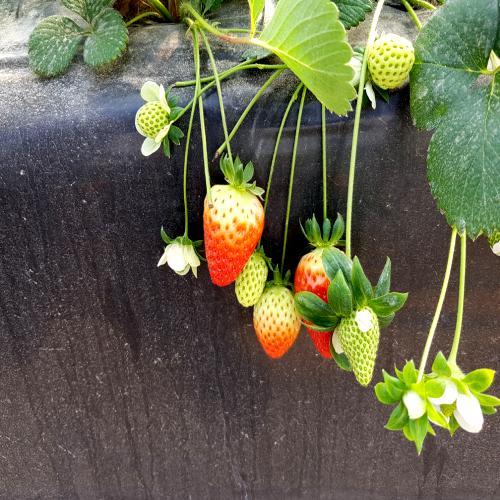partially-ripe: (200, 169, 266, 302), (294, 250, 355, 378), (255, 279, 298, 362)
